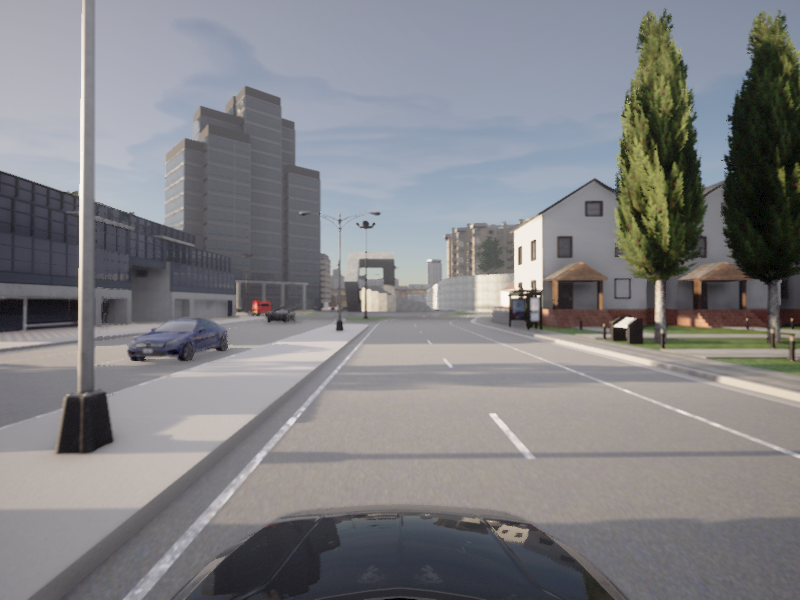vehicle: (119, 316, 234, 365), (263, 307, 297, 323)
